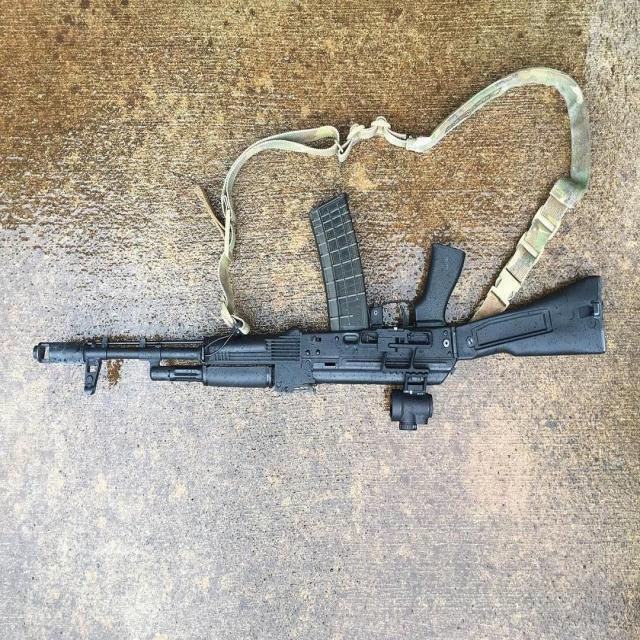weapon: (35, 192, 610, 430)
